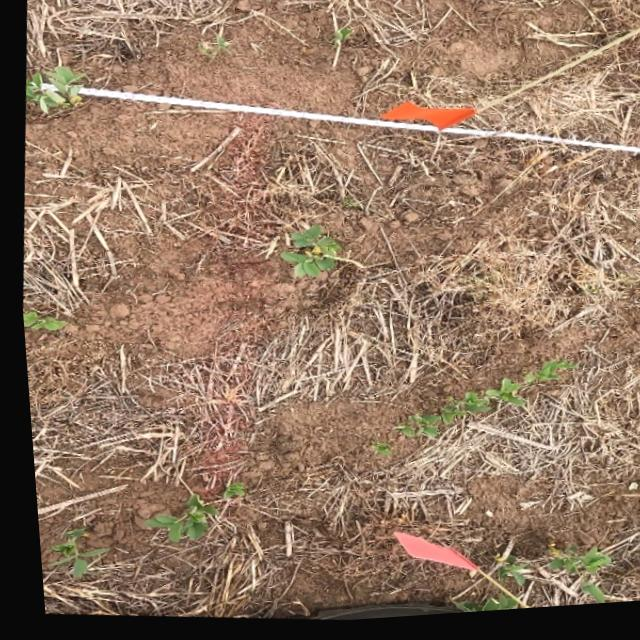soy_plant: (389, 367, 569, 442), (529, 552, 602, 611), (276, 228, 358, 280), (136, 494, 209, 543), (42, 528, 99, 577), (24, 65, 82, 113), (445, 600, 509, 618), (330, 18, 351, 70), (486, 561, 521, 591), (18, 310, 61, 330), (363, 445, 385, 459), (215, 485, 236, 499)
